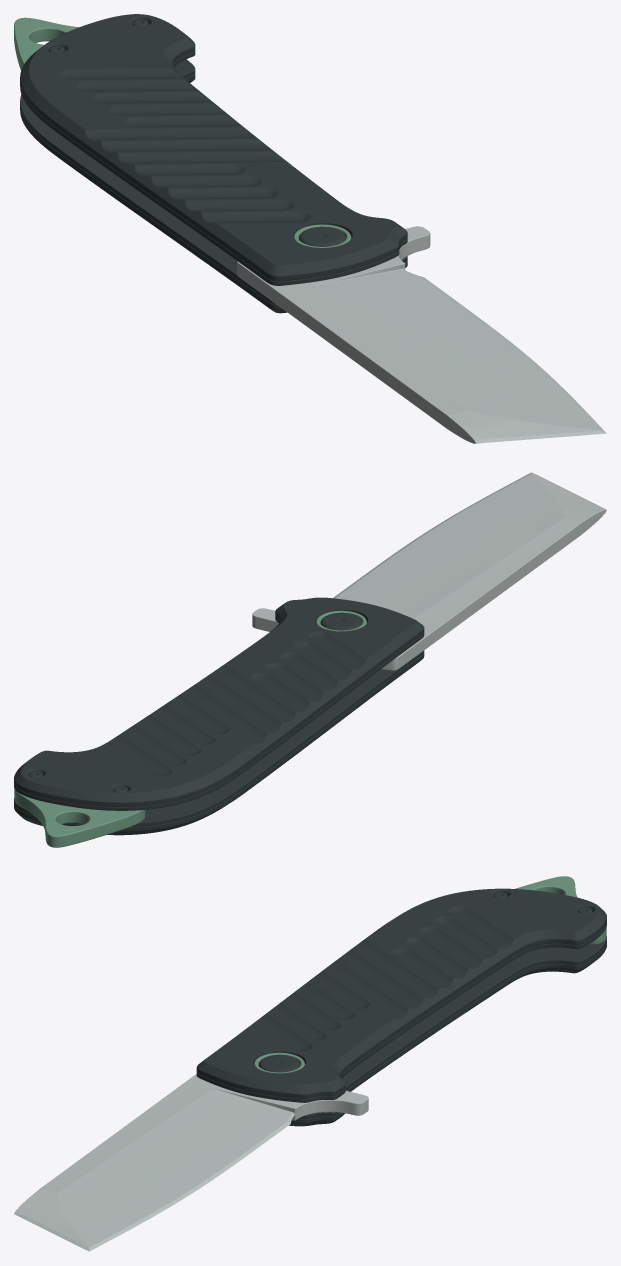
File: handTool_knife_foldingUtility_a01.glb
The picture shows the model from 3 angles, top to bottom: view 1: azimuth 30°, elevation 25°; view 2: azimuth 150°, elevation 25°; view 3: azimuth 330°, elevation 25°; orthographic projection. The views are drawn at different scales.
Bounding box in the file's own units: 0.0353 × 0.00854 × 0.1844.
